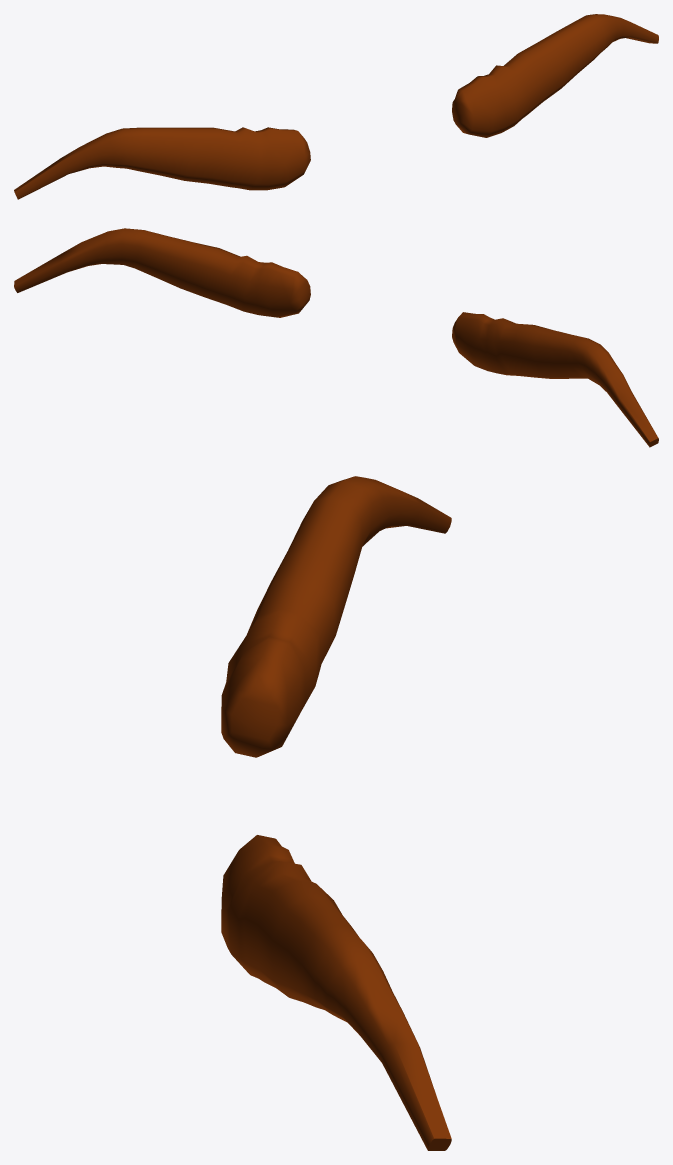
File: Eyebrows_09_02.fbx
The picture shows the model from 3 angles, top to bottom: view 1: azimuth 30°, elevation 25°; view 2: azimuth 150°, elevation 25°; view 3: azimuth 270°, elevation 25°; orthographic projection. The views are drawn at different scales.
Visible parts, largest first — view 1: Eyebrows_09_02; view 2: Eyebrows_09_02; view 3: Eyebrows_09_02.
Part boxes in pixels (bbox=[...]): Eyebrows_09_02: bbox=[14, 14, 658, 199]; Eyebrows_09_02: bbox=[14, 228, 658, 447]; Eyebrows_09_02: bbox=[221, 476, 451, 1150].
Bounding box in the file's own units: 19.2 × 2.07 × 2.98.
